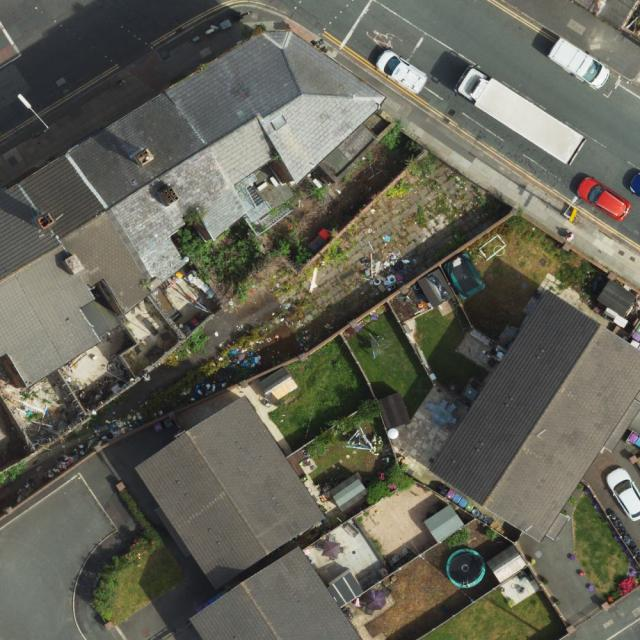roof: (0, 29, 387, 387), (429, 289, 640, 543), (130, 396, 328, 591), (190, 546, 363, 640)
skylight: (269, 114, 289, 133)
